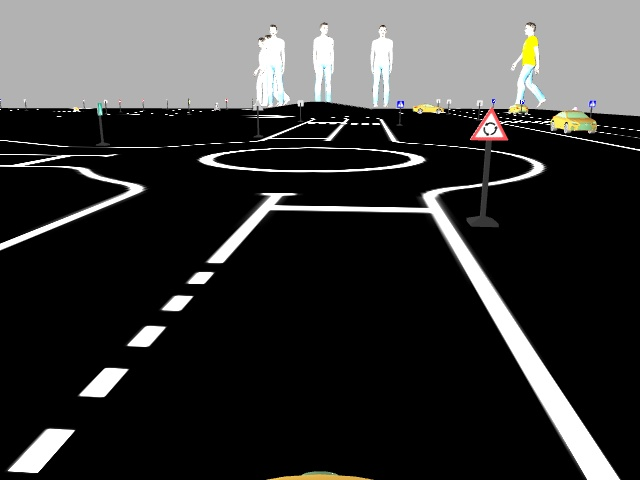Roundabout: (464, 105, 509, 141)
